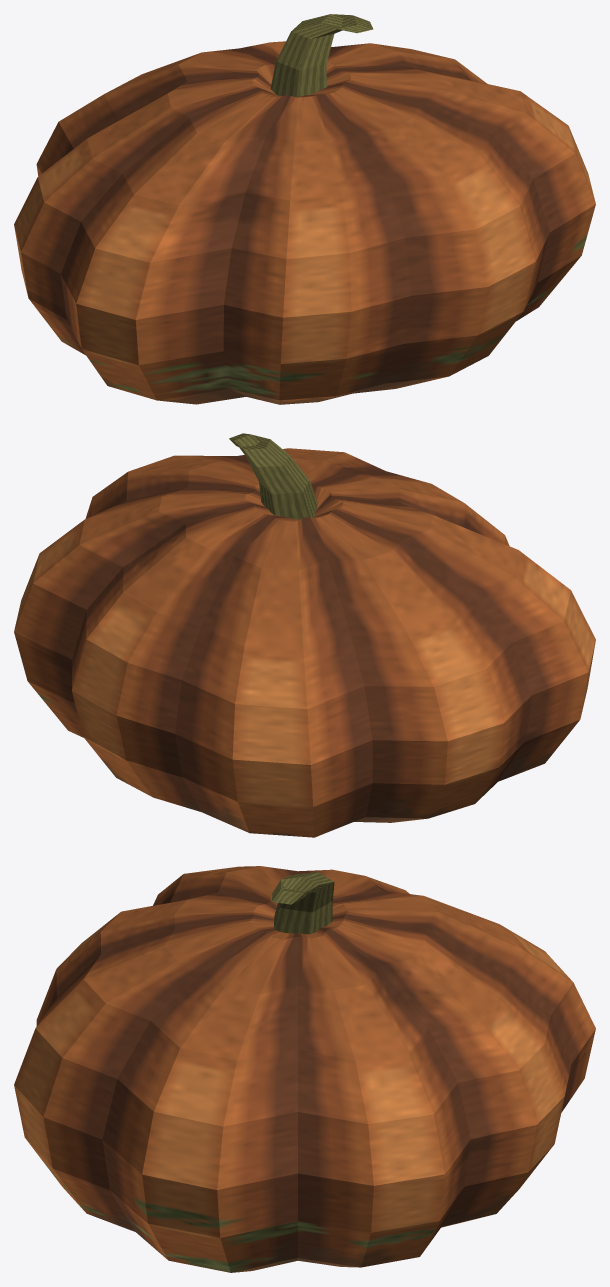
Rendered from SM_Pumpkin.fbx.
The picture shows the model from 3 angles, top to bottom: view 1: azimuth 30°, elevation 25°; view 2: azimuth 150°, elevation 25°; view 3: azimuth 270°, elevation 25°; orthographic projection. The views are drawn at different scales.
Visible parts, largest first — view 1: SM_Pumpkin; view 2: SM_Pumpkin; view 3: SM_Pumpkin.
Part boxes in pixels (<box>): SM_Pumpkin: <box>14,14,595,404</box>; SM_Pumpkin: <box>14,433,595,837</box>; SM_Pumpkin: <box>14,866,595,1272</box>.
Bounding box in the file's own units: 1.1 × 0.665 × 0.9997.
1 material, 1 textured.
